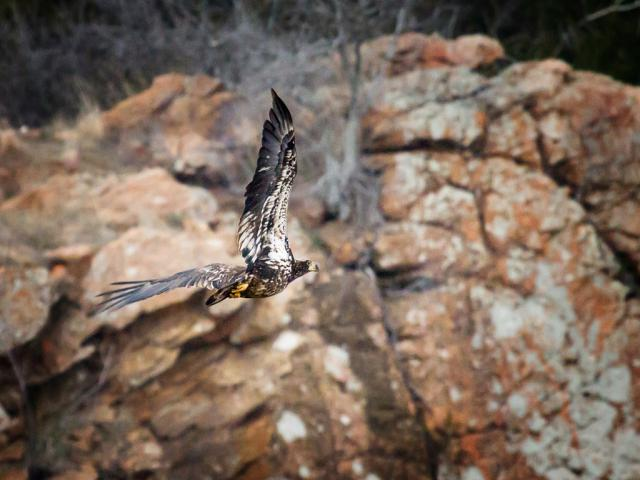Bird: (87, 85, 320, 313)
